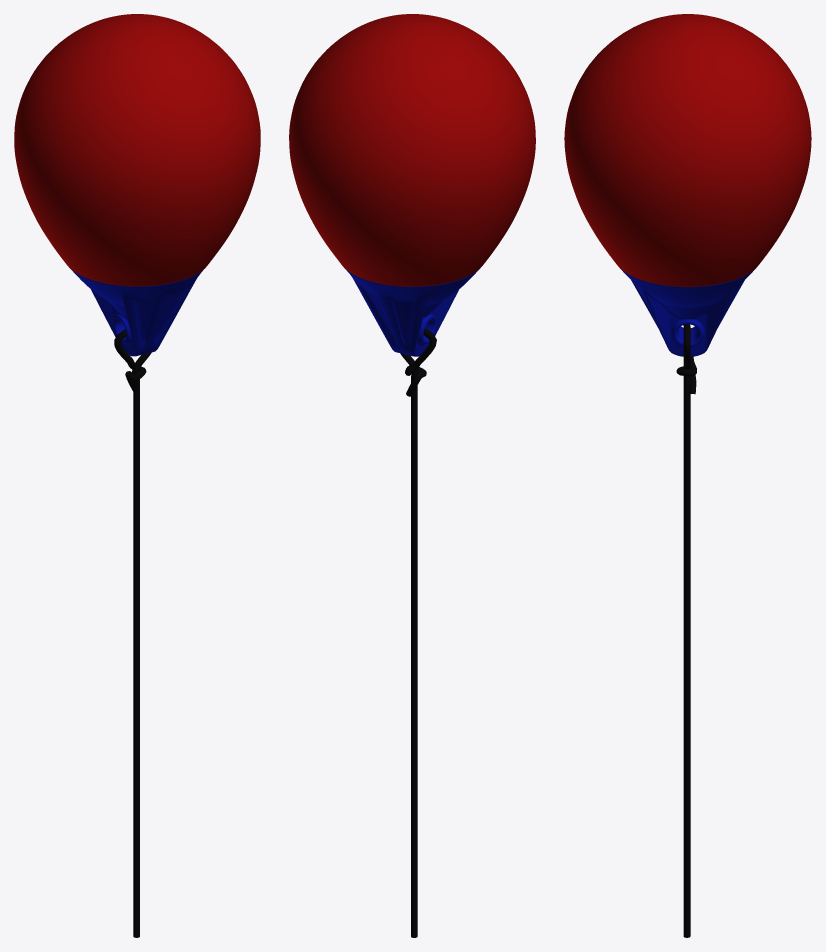
File: buoy.dae
3 views of the same model, side by side, from view 1: azimuth 30°, elevation 25°; view 2: azimuth 150°, elevation 25°; view 3: azimuth 270°, elevation 25° (orthographic).
Parts seen in each view (by area): view 1: buoy_red, buoy_rope; view 2: buoy_red, buoy_rope; view 3: buoy_red, buoy_rope.
Boxes of the visible parts, x1,y1,x2,y2 form: buoy_red: (14,14,260,356); buoy_rope: (114,329,151,937); buoy_red: (289,14,535,356); buoy_rope: (400,328,436,937); buoy_red: (564,14,811,356); buoy_rope: (676,324,696,937).
Bounding box in the file's own units: 0.1903 × 0.1903 × 0.7756.
